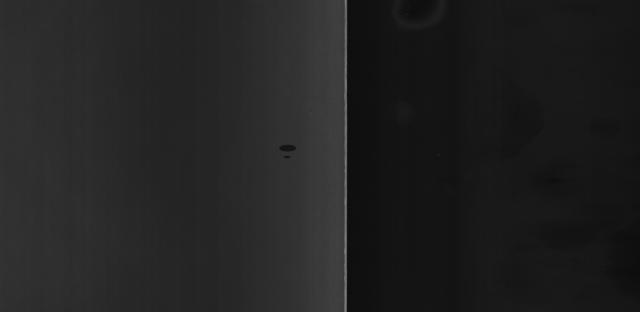oil_spot: (274, 129, 309, 169)
